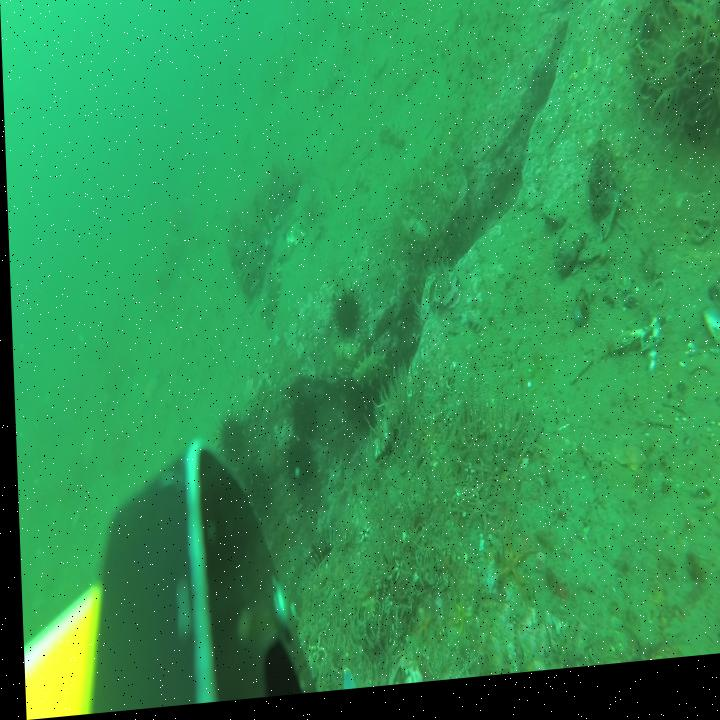echinus: (302, 530, 340, 602), (327, 291, 363, 352), (283, 390, 318, 450), (212, 414, 246, 474), (283, 440, 315, 499), (241, 469, 272, 523), (348, 388, 378, 441)
holothurian: (349, 355, 390, 396), (258, 264, 281, 334), (317, 76, 344, 107), (377, 128, 402, 158), (337, 20, 357, 44), (354, 178, 368, 201), (363, 0, 381, 10)
scallop: (608, 441, 643, 489), (284, 228, 304, 255), (372, 56, 387, 88)
starfish: (489, 543, 532, 600), (407, 612, 435, 661), (447, 603, 471, 647)
